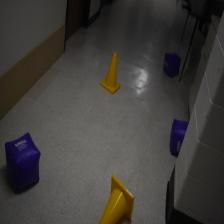cone: (98, 176, 134, 224), (100, 52, 120, 94)
cube: (4, 132, 41, 191), (170, 119, 190, 157), (163, 51, 181, 78)
